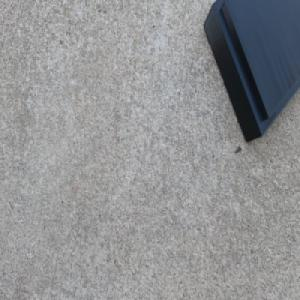PlasticPart: (202, 0, 300, 144)
